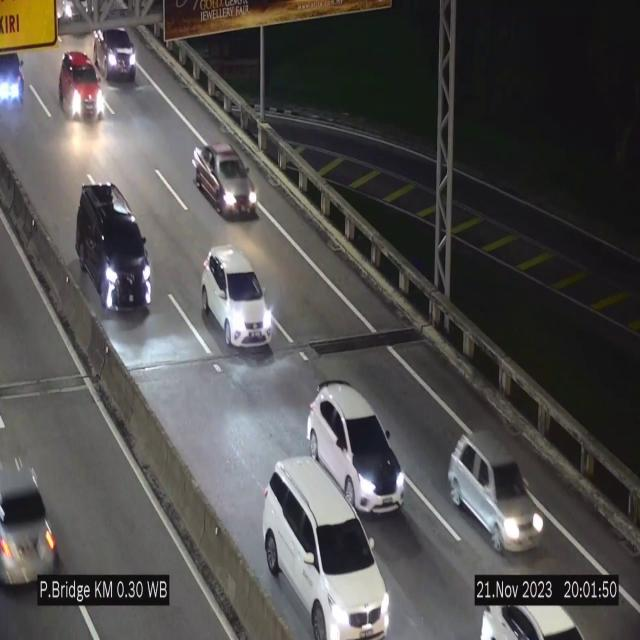Car: (263, 460, 389, 640), (307, 382, 405, 515), (448, 435, 547, 553), (75, 180, 153, 320), (0, 436, 59, 590), (200, 247, 274, 349), (192, 138, 260, 222), (478, 602, 584, 640), (58, 49, 108, 124), (92, 29, 136, 84), (0, 42, 32, 108)
